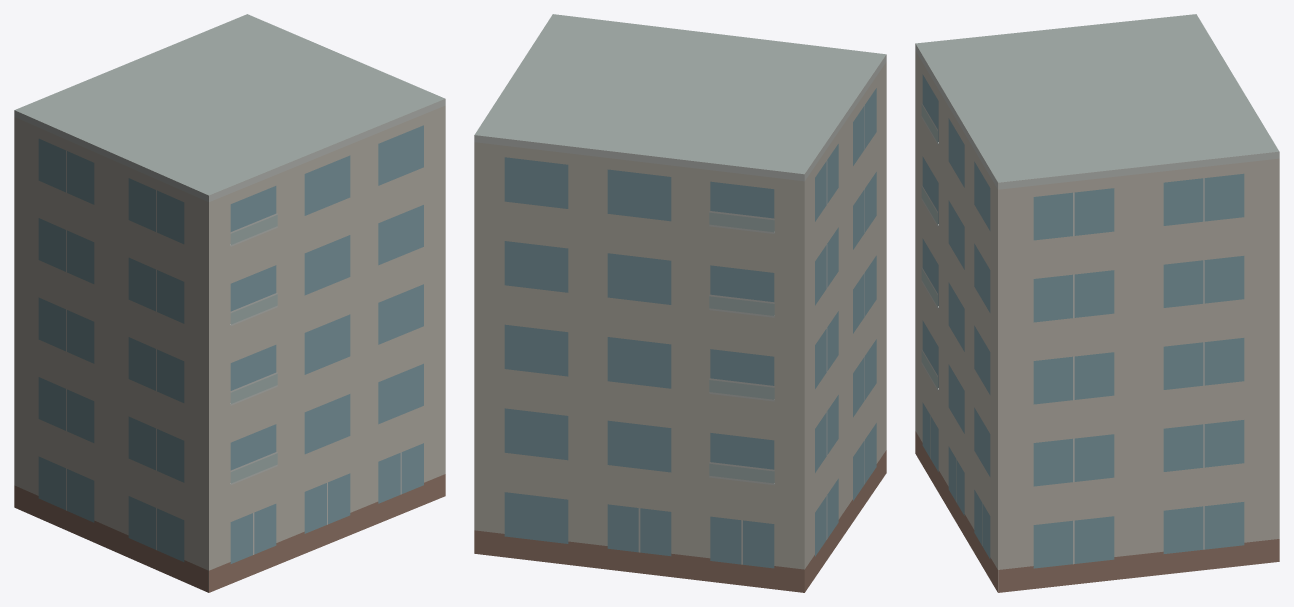
File: survey-upis-32650892.glb
3 views of the same model, side by side, from view 1: azimuth 30°, elevation 25°; view 2: azimuth 150°, elevation 25°; view 3: azimuth 270°, elevation 25° (orthographic). The views are drawn at different scales.
Parts seen in each view (by area): view 1: survey-upis-32650892.tmp; view 2: survey-upis-32650892.tmp; view 3: survey-upis-32650892.tmp.
Part boxes in pixels (x1=…): survey-upis-32650892.tmp: x1=14, y1=14, x2=445, y2=592; survey-upis-32650892.tmp: x1=474, y1=14, x2=886, y2=592; survey-upis-32650892.tmp: x1=915, y1=14, x2=1279, y2=592.
Size of the model in its own units: 12.72 by 14.4 by 11.6.
